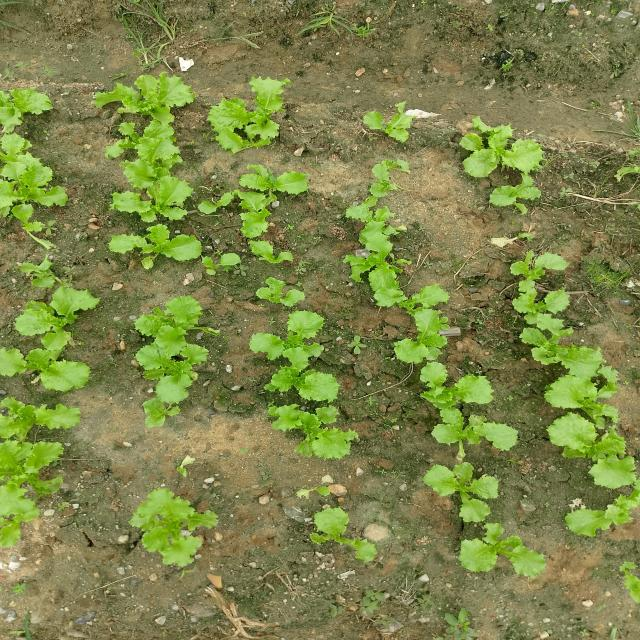Lettuce: (205, 73, 302, 151), (519, 350, 619, 421), (284, 503, 390, 568), (126, 496, 218, 570), (547, 412, 629, 483), (556, 482, 640, 551), (417, 460, 505, 523), (462, 524, 551, 586), (134, 336, 218, 400), (457, 114, 535, 181), (98, 120, 201, 169), (272, 406, 355, 465), (112, 224, 209, 272), (106, 171, 190, 225), (358, 96, 428, 149), (442, 415, 525, 456), (273, 348, 340, 398), (0, 84, 58, 136), (0, 490, 45, 553), (41, 286, 103, 331), (396, 280, 452, 326), (269, 308, 328, 351), (235, 170, 311, 203), (508, 250, 570, 290), (253, 274, 309, 314), (487, 179, 548, 213)
